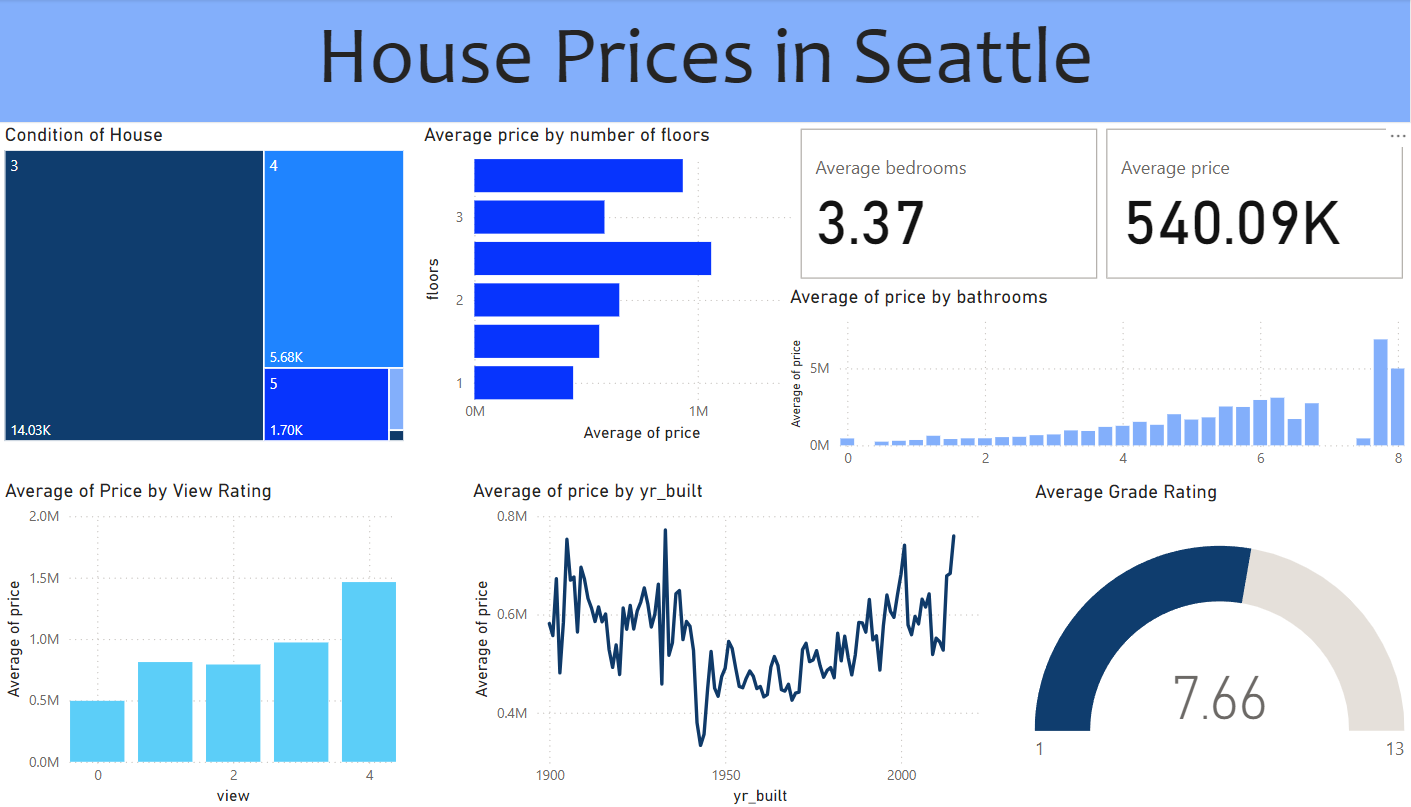

The page's visual inventory and layout, read from the dashboard file:
{"tool":"powerbi","page":{"name":"Page 1","canvas":[1280,720],"ordinal":0},"visuals":[{"type":"barChart","title":"Average price by number of floors","fields":{"Category":["Housing.floors"],"Y":["Avg(Housing.price)"]},"box":[378.5,109.8,366,287],"z":0},{"type":"clusteredColumnChart","title":"Average of Price by View Rating","fields":{"Y":["Avg(Housing.price)"],"Category":["Housing.view"]},"box":[6.7,425.7,357.3,293.8],"z":1000},{"type":"lineChart","fields":{"Category":["Housing.yr_built"],"Y":["Avg(Housing.price)"]},"box":[421.9,425.7,465.2,293.8],"z":2000},{"type":"cardVisual","fields":{"Data":["Avg(Housing.bedrooms)","Avg(Housing.price)"]},"box":[712.9,109.9,545.7,144],"z":3000},{"type":"treemap","title":"Condition of House","fields":{"Group":["Housing.condition"],"Values":["CountNonNull(Housing.condition)"]},"box":[6.7,109.8,364.1,287],"z":4000},{"type":"actionButton","box":[0,0,100,40],"z":5000},{"type":"gauge","title":"Average Grade Rating","fields":{"Y":["Avg(Housing.grade)"],"MaxValue":["Max(Housing.grade)1"],"MinValue":["Min(Housing.grade)2"]},"box":[920.8,426.7,338.1,292.8],"z":6000},{"type":"textbox","box":[6.7,0,1252.1,109.8],"z":7000},{"type":"clusteredColumnChart","fields":{"Category":["Housing.bathrooms"],"Y":["Avg(Housing.price)"]},"box":[703.2,253.9,555.4,172.2],"z":8000}]}

Visuals, with their boxes in screenshot pixels (x1, y1, x2, y2), scaled from the page's 1280x720 canvas onto the 1411x807 screenshot:
"Average price by number of floors" barChart: (417, 123, 821, 445)
"Average of Price by View Rating" clusteredColumnChart: (7, 477, 401, 806)
lineChart - Housing.yr_built x Avg(Housing.price): (465, 477, 978, 806)
cardVisual - Avg(Housing.bedrooms) x Avg(Housing.price): (786, 123, 1387, 285)
"Condition of House" treemap: (7, 123, 409, 445)
actionButton: (0, 0, 110, 45)
"Average Grade Rating" gauge: (1015, 478, 1388, 806)
textbox: (7, 0, 1388, 123)
clusteredColumnChart - Housing.bathrooms x Avg(Housing.price): (775, 285, 1387, 478)
